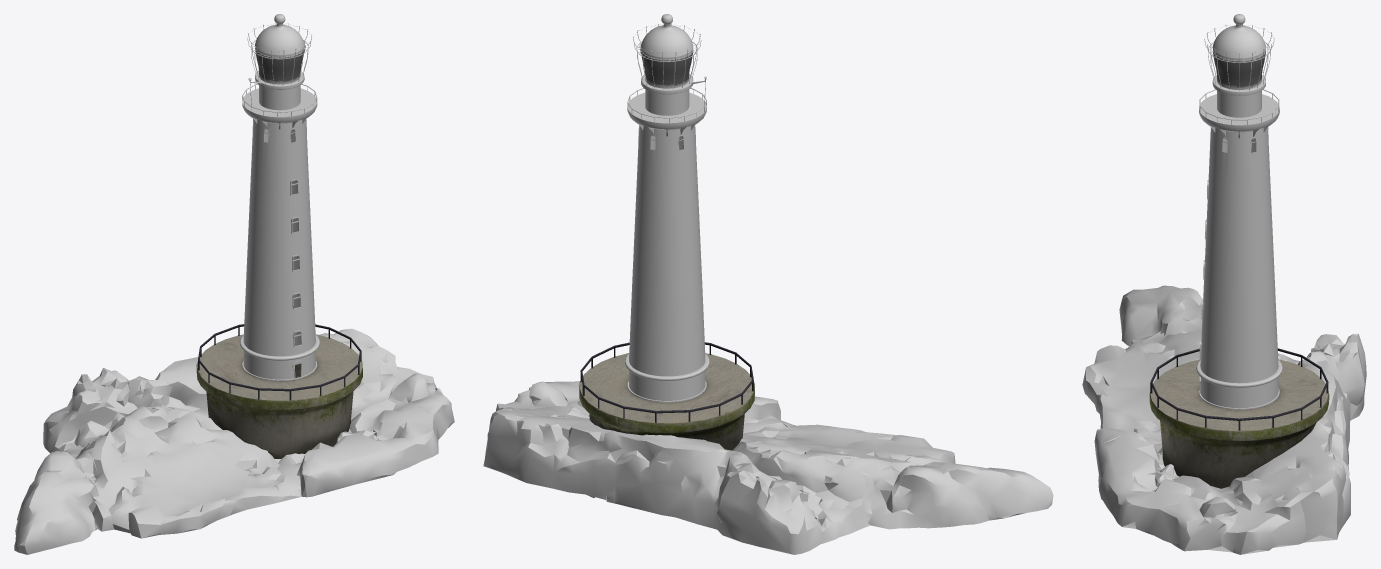
The model's file is Lighthouse.obj.
The picture shows the model from 3 angles, left to right: view 1: azimuth 30°, elevation 25°; view 2: azimuth 150°, elevation 25°; view 3: azimuth 270°, elevation 25°; orthographic projection. The views are drawn at different scales.
Parts seen in each view (by area): view 1: Lighthouse; view 2: Lighthouse; view 3: Lighthouse.
Part boxes in pixels (left/top/right/bottom): Lighthouse: left=14, top=14, right=454, bottom=554; Lighthouse: left=483, top=14, right=1053, bottom=554; Lighthouse: left=1082, top=14, right=1366, bottom=554.
Bounding box in the file's own units: 85.28 × 73.96 × 41.36.
